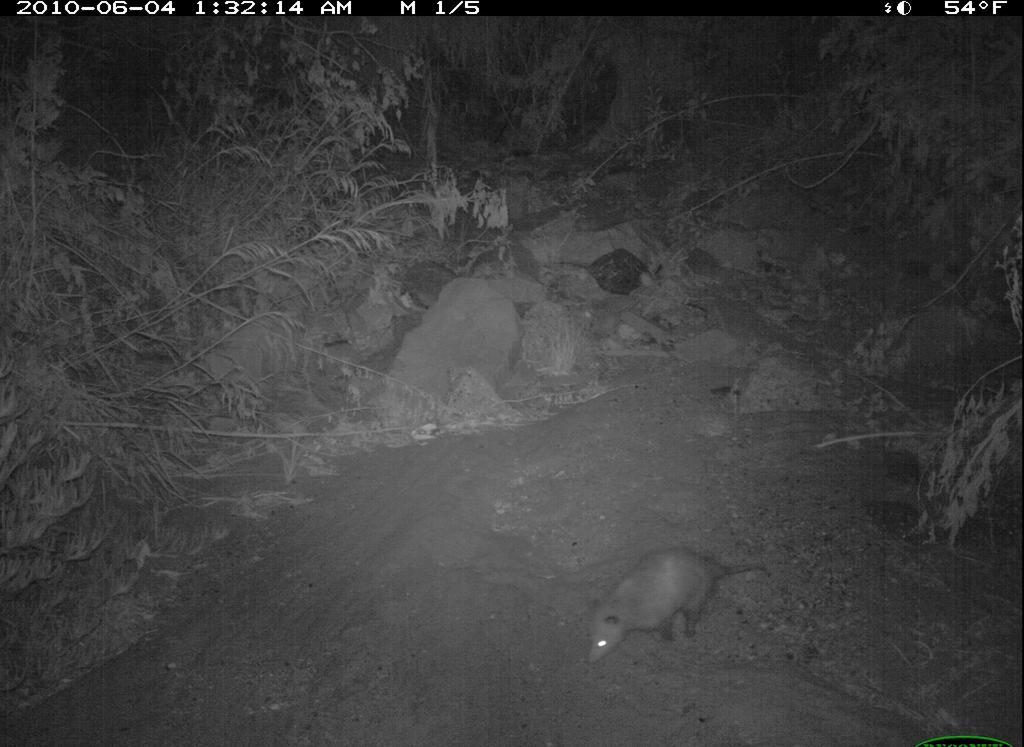opossum: (568, 520, 793, 699)
